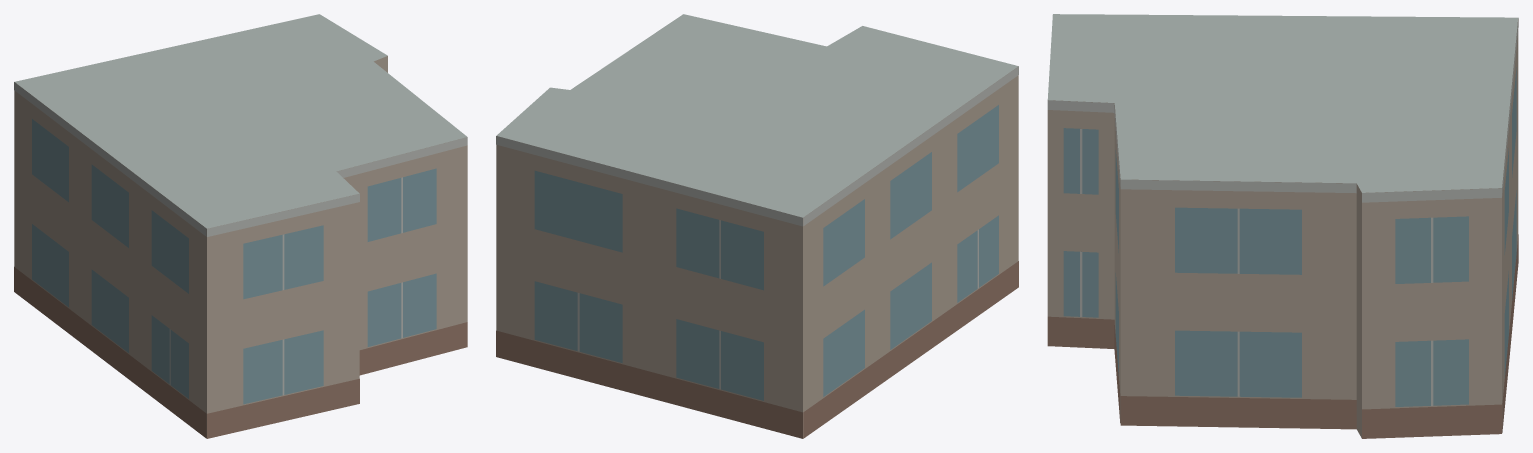
File: survey-upis-32665416.glb
3 renders of one model, left to right at view 1: azimuth 30°, elevation 25°; view 2: azimuth 150°, elevation 25°; view 3: azimuth 270°, elevation 25°, orthographic. The views are drawn at different scales.
Visible parts, largest first — view 1: survey-upis-32665416.tmp; view 2: survey-upis-32665416.tmp; view 3: survey-upis-32665416.tmp.
Part boxes in pixels (x1=…): survey-upis-32665416.tmp: x1=14, y1=14, x2=467, y2=438; survey-upis-32665416.tmp: x1=496, y1=14, x2=1018, y2=438; survey-upis-32665416.tmp: x1=1047, y1=14, x2=1518, y2=438.
Bounding box in the file's own units: 9.53 × 6.1 × 10.59.
